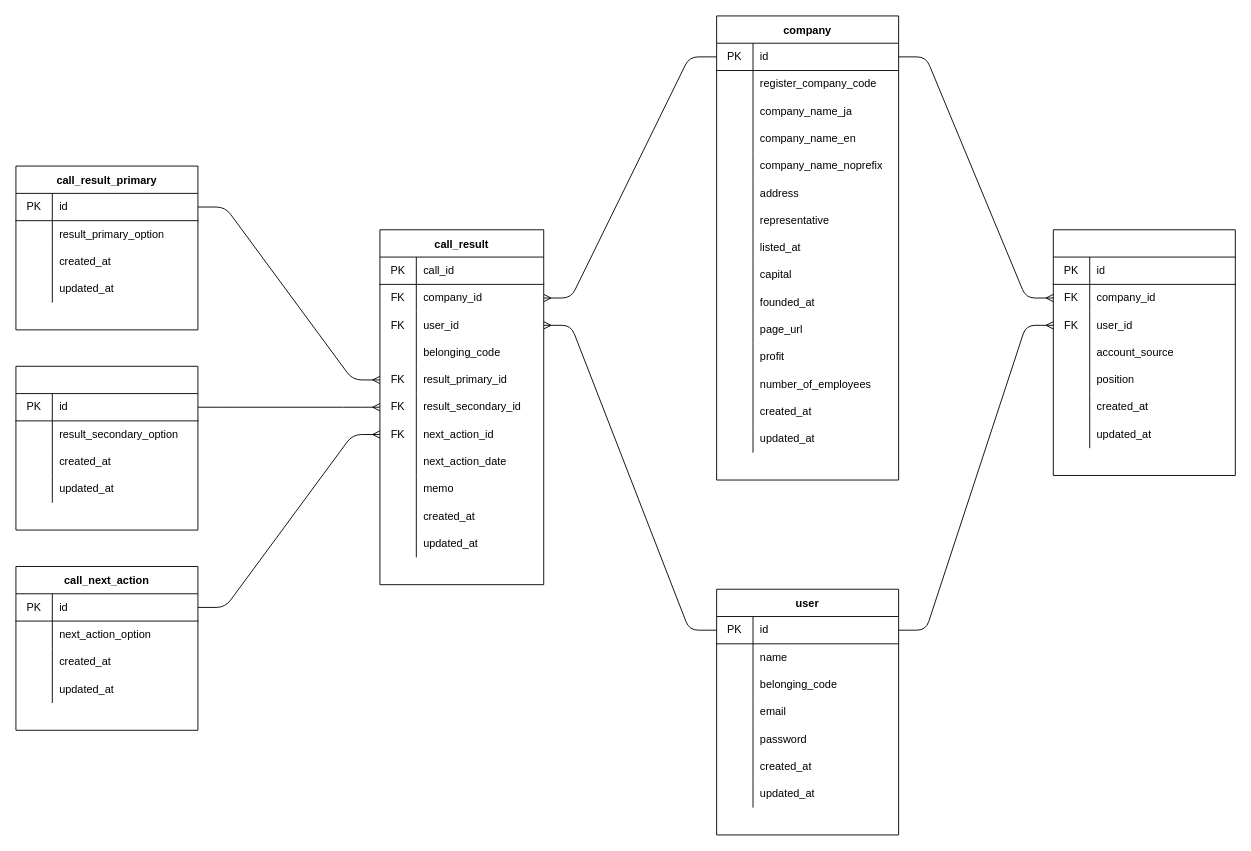
The diagram is 1251 pixels wide and 851 high, and some of its shapes have lost their labels. Each missing label, with the box of its shape:
call_result_secondary: (15, 365, 198, 530)
person_in_charge: (1052, 229, 1235, 475)
